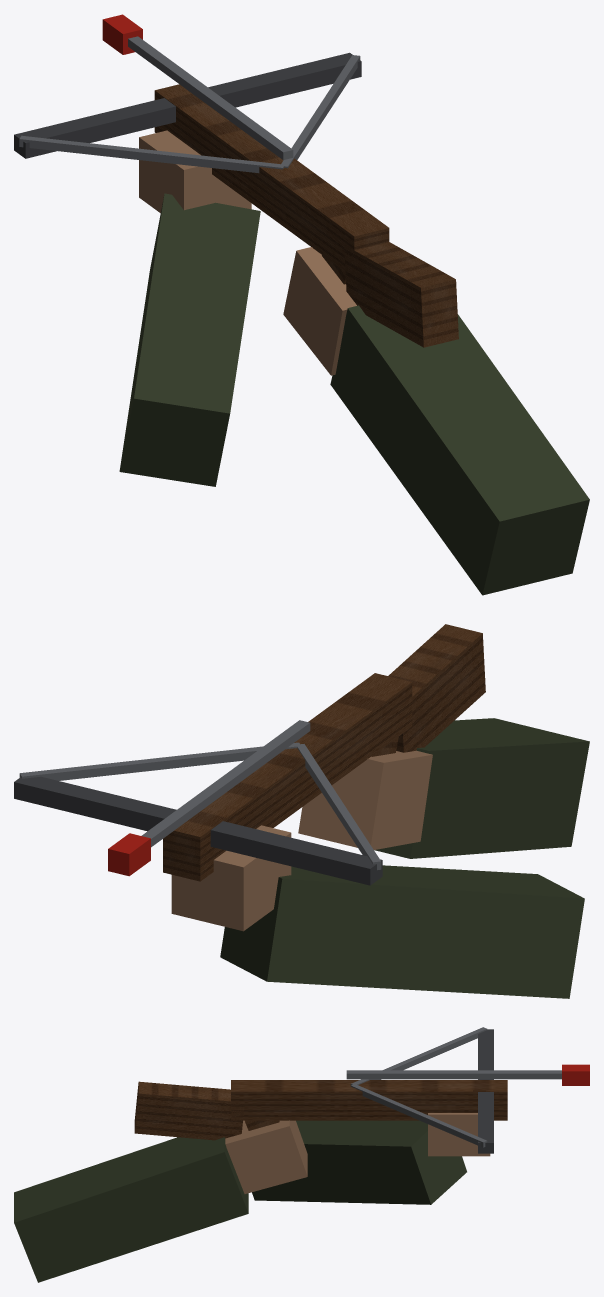
File: xbow.glb
The picture shows the model from 3 angles, top to bottom: view 1: azimuth 30°, elevation 25°; view 2: azimuth 150°, elevation 25°; view 3: azimuth 270°, elevation 25°; orthographic projection. The views are drawn at different scales.
Parts seen in each view (by area): view 1: xbow_5, xbow_0, xbow_4, xbow_2, xbow_1, xbow_3; view 2: xbow_5, xbow_0, xbow_4, xbow_1, xbow_2, xbow_3; view 3: xbow_5, xbow_0, xbow_4, xbow_2, xbow_1, xbow_3.
Part boxes in pixels (<box>): xbow_5: <box>119,193,589,595</box>; xbow_0: <box>154,84,458,347</box>; xbow_4: <box>139,130,356,375</box>; xbow_2: <box>19,36,360,173</box>; xbow_1: <box>14,52,361,158</box>; xbow_3: <box>102,14,142,54</box>; xbow_5: <box>220,718,589,998</box>; xbow_0: <box>163,624,485,881</box>; xbow_4: <box>171,750,432,931</box>; xbow_1: <box>14,776,382,885</box>; xbow_2: <box>19,720,381,870</box>; xbow_3: <box>108,833,150,876</box>; xbow_5: <box>14,1120,466,1282</box>; xbow_0: <box>134,1080,507,1140</box>; xbow_4: <box>225,1113,490,1193</box>; xbow_2: <box>346,1027,561,1147</box>; xbow_1: <box>478,1029,493,1153</box>; xbow_3: <box>562,1064,589,1085</box>.
Size of the model in its own units: 0.6761 by 0.4766 by 1.28.
6 materials, 1 textured.
